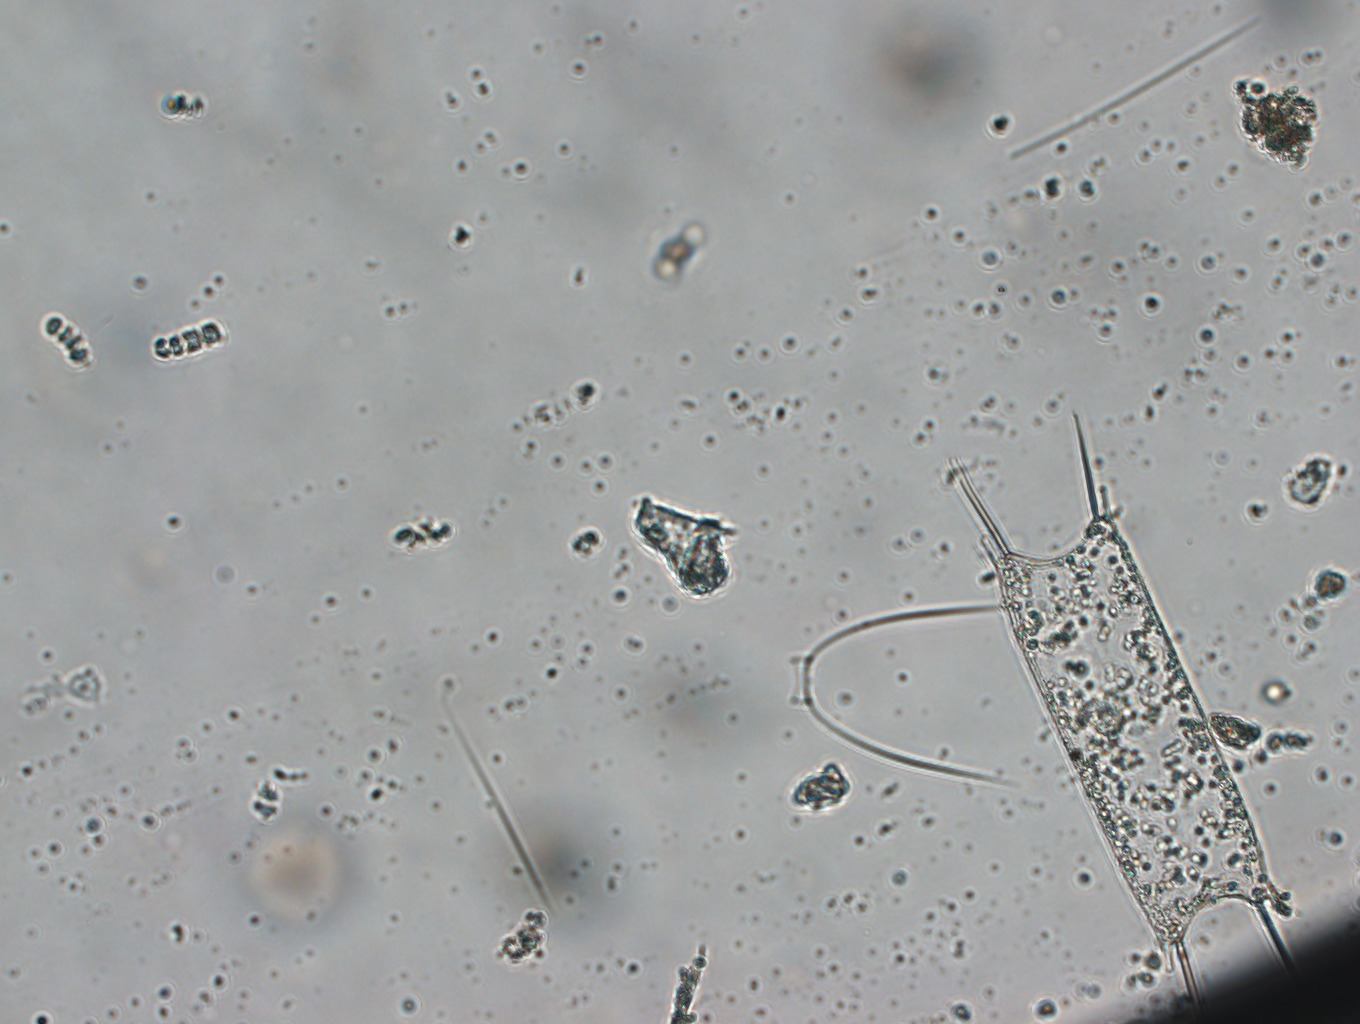biddulphia: (940, 400, 1312, 977)
